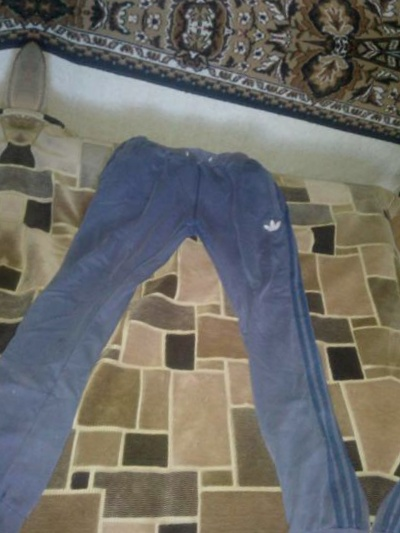Pants: (0, 88, 400, 533), (369, 138, 400, 533), (0, 34, 8, 520)
